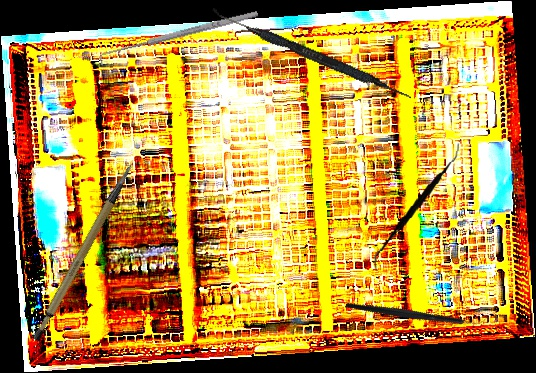Chopper: (344, 254, 488, 370)
Hook Surgical: (97, 8, 261, 66)
Scalpel Handle: (10, 163, 160, 344)
Spatula Surgical: (208, 7, 415, 102), (372, 136, 462, 277)
